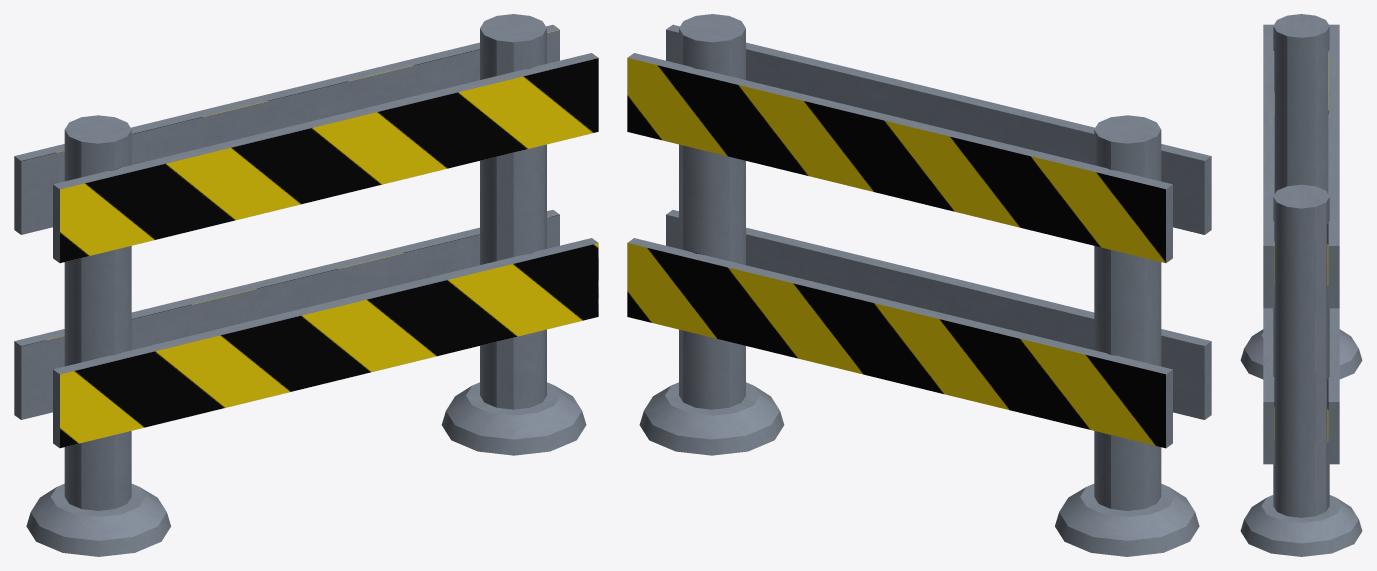
File: barier_1.fbx
3 views of the same model, side by side, from view 1: azimuth 30°, elevation 25°; view 2: azimuth 150°, elevation 25°; view 3: azimuth 270°, elevation 25° (orthographic). The views are drawn at different scales.
Visible parts, largest first — view 1: low.001; view 2: low.001; view 3: low.001.
Boxes of the visible parts, <box> form: low.001: <box>14,14,598,556</box>; low.001: <box>627,14,1211,556</box>; low.001: <box>1240,14,1362,556</box>.
Size of the model in its own units: 58.71 by 41.19 by 13.62.
Materials: 1 (1 with a texture image).
